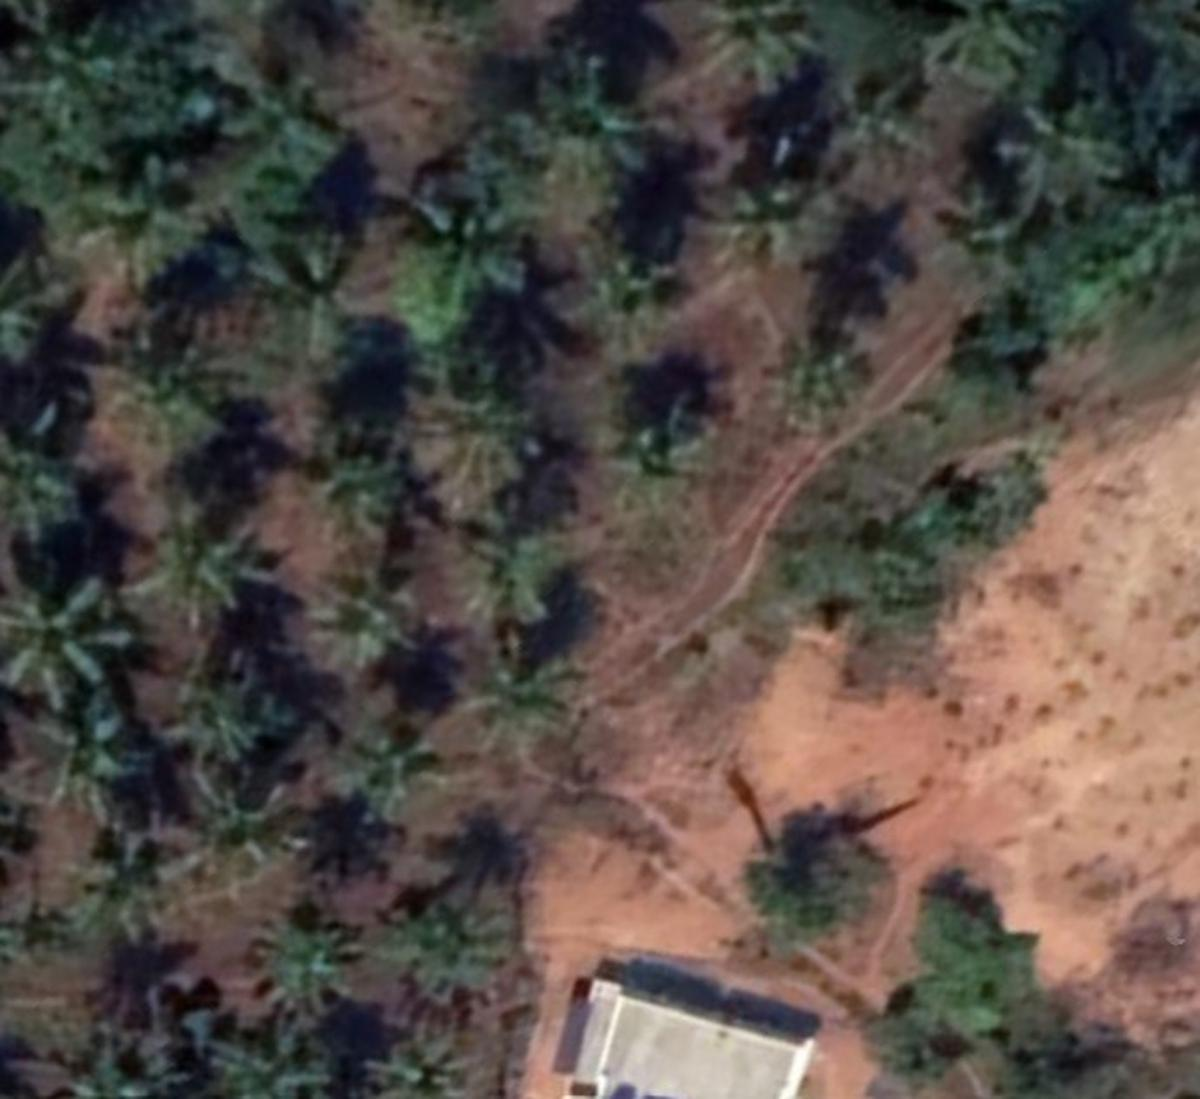coconut: (373, 902, 520, 1022), (540, 52, 674, 175), (5, 572, 128, 704), (986, 88, 1123, 205), (125, 511, 266, 624), (45, 824, 184, 937), (394, 179, 528, 292), (76, 153, 201, 271), (306, 568, 422, 693), (29, 697, 147, 815), (455, 516, 575, 631), (245, 226, 357, 347), (166, 645, 295, 751), (424, 373, 544, 483), (697, 3, 833, 99), (457, 639, 580, 745), (182, 772, 313, 867), (236, 909, 351, 1015), (579, 238, 695, 344), (5, 392, 83, 547), (297, 432, 410, 533), (605, 391, 709, 495), (711, 171, 815, 259), (344, 723, 438, 812)
